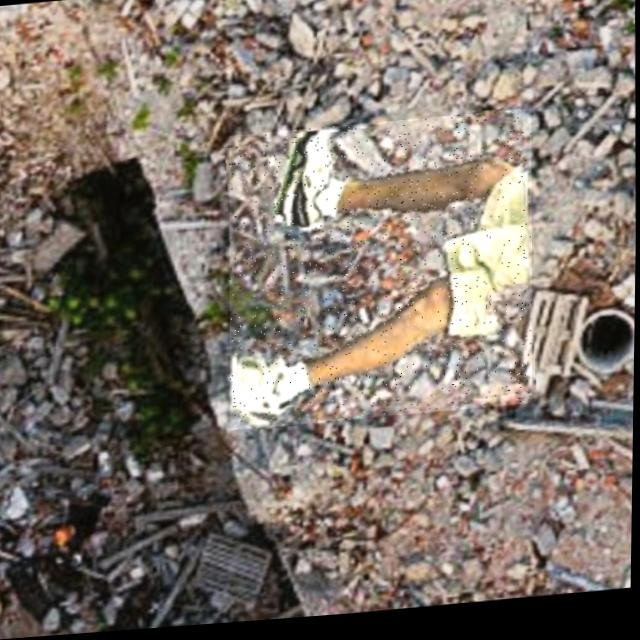Person in Rubble: (225, 116, 535, 434)
